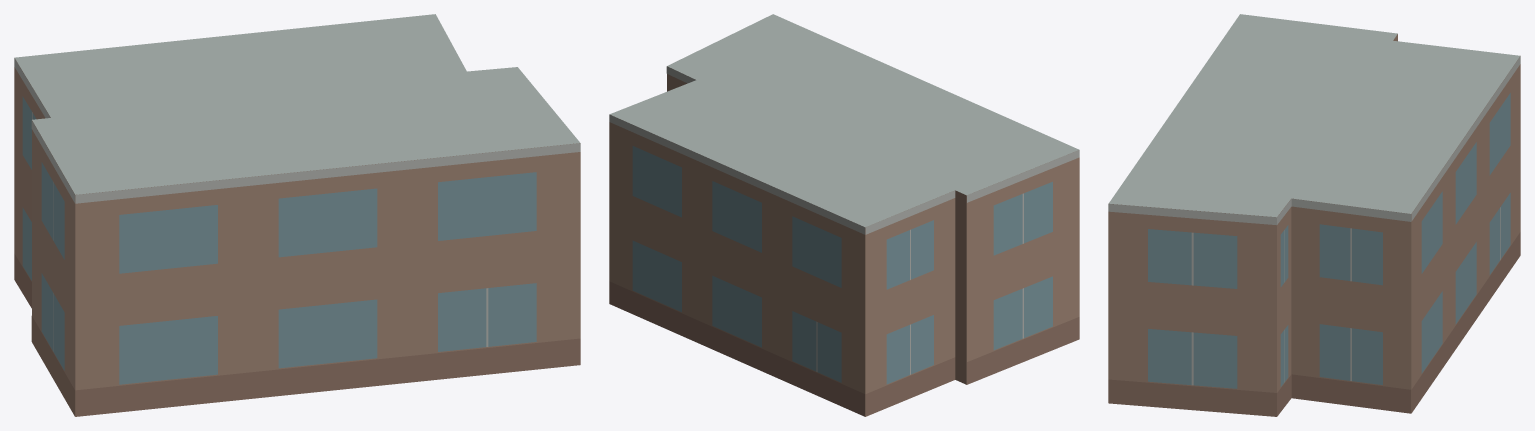
Rendered from survey-upis-32797997.glb.
The picture shows the model from 3 angles, left to right: view 1: azimuth 30°, elevation 25°; view 2: azimuth 150°, elevation 25°; view 3: azimuth 270°, elevation 25°; orthographic projection. The views are drawn at different scales.
Parts seen in each view (by area): view 1: survey-upis-32797997.tmp; view 2: survey-upis-32797997.tmp; view 3: survey-upis-32797997.tmp.
Boxes of the visible parts, x1,y1,x2,y2 form: survey-upis-32797997.tmp: (14, 14, 580, 416); survey-upis-32797997.tmp: (609, 14, 1079, 416); survey-upis-32797997.tmp: (1108, 14, 1520, 416).
Size of the model in its own units: 13.32 by 6.1 by 11.42.
